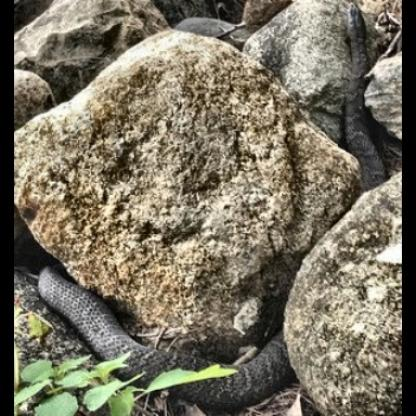Snake: (34, 264, 298, 411), (339, 0, 416, 197)
